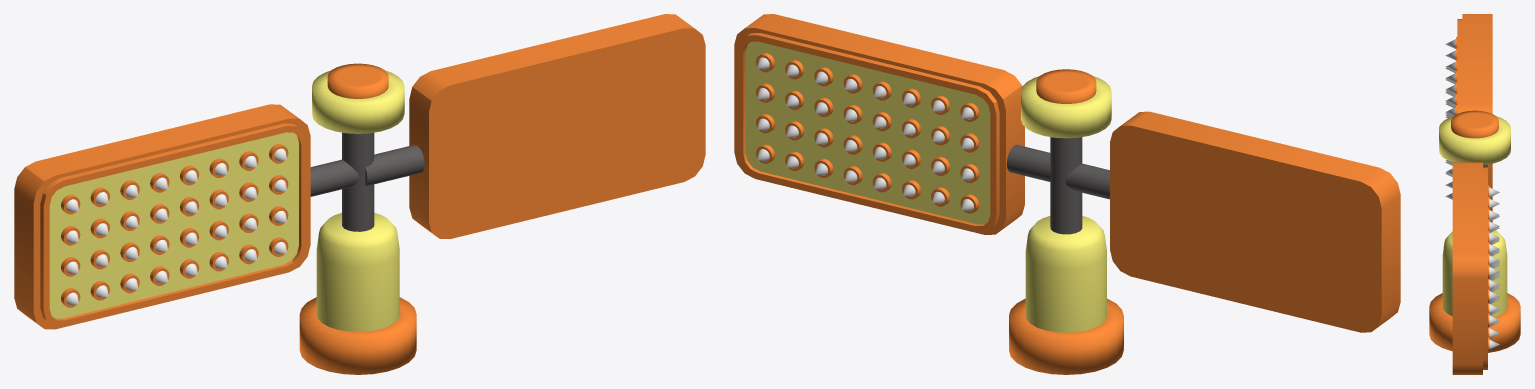
Rendered from Obstacle 14 V3.fbx.
3 renders of one model, left to right at view 1: azimuth 30°, elevation 25°; view 2: azimuth 150°, elevation 25°; view 3: azimuth 270°, elevation 25°, orthographic. The views are drawn at different scales.
Parts seen in each view (by area): view 1: O14 Part 1, O14 Part 2; view 2: O14 Part 1, O14 Part 2; view 3: O14 Part 1, O14 Part 2.
Boxes of the visible parts, x1=… form: O14 Part 1: x1=14, y1=14, x2=705, y2=329; O14 Part 2: x1=299, y1=63, x2=416, y2=374; O14 Part 1: x1=734, y1=14, x2=1400, y2=332; O14 Part 2: x1=1009, y1=69, x2=1123, y2=374; O14 Part 1: x1=1445, y1=14, x2=1499, y2=374; O14 Part 2: x1=1429, y1=110, x2=1520, y2=352.
Size of the model in its own units: 296 by 116 by 45.05.
1 material, 1 textured.
